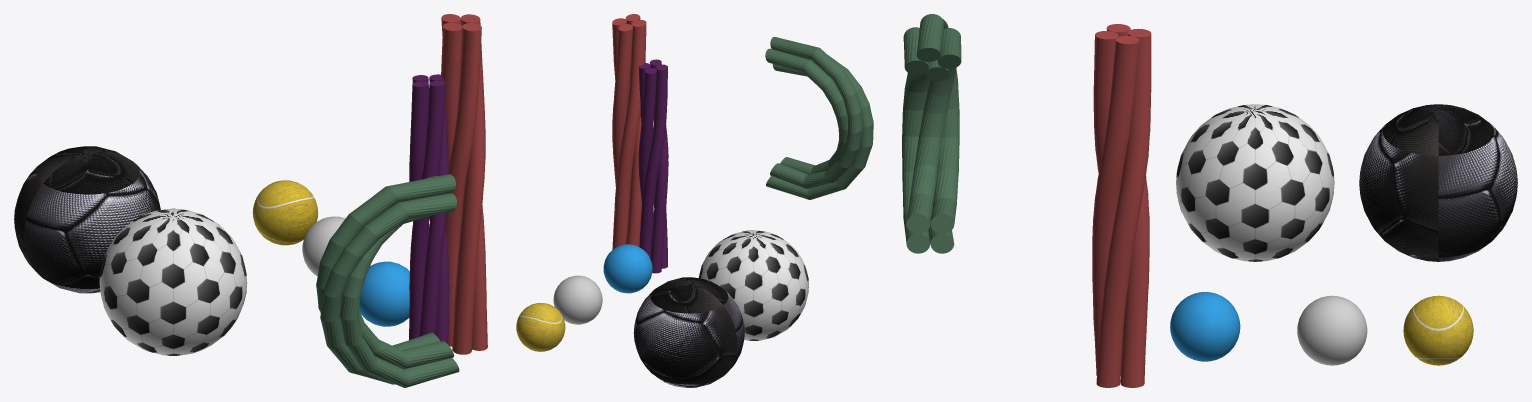
File: Dogo stuff.fbx
The picture shows the model from 3 angles, left to right: view 1: azimuth 30°, elevation 25°; view 2: azimuth 150°, elevation 25°; view 3: azimuth 270°, elevation 25°; orthographic projection. The views are drawn at different scales.
Visible parts, largest first — view 1: pPlatonic7, pCylinder11, pPlatonic6, pCylinder10, pCylinder5, pPlatonic4, pPlatonic3, pPlatonic2; view 2: pPlatonic6, pCylinder11, pPlatonic7, pCylinder10, pCylinder5, pPlatonic3, pPlatonic4, pPlatonic2; view 3: pCylinder10, pPlatonic6, pPlatonic7, pCylinder11, pPlatonic4, pPlatonic2, pPlatonic3.
Part boxes in pixels (x1,y1,x2,y2): pPlatonic7: (99, 208, 247, 355); pCylinder11: (316, 174, 459, 387); pPlatonic6: (14, 146, 160, 293); pCylinder10: (441, 14, 487, 354); pCylinder5: (409, 74, 449, 343); pPlatonic4: (252, 180, 318, 245); pPlatonic3: (359, 261, 409, 326); pPlatonic2: (302, 216, 345, 276); pPlatonic6: (633, 277, 744, 387); pCylinder11: (765, 37, 873, 199); pPlatonic7: (699, 230, 808, 340); pCylinder10: (612, 14, 646, 249); pCylinder5: (638, 59, 668, 273); pPlatonic3: (603, 244, 652, 293); pPlatonic4: (516, 303, 565, 351); pPlatonic2: (553, 275, 602, 324); pCylinder10: (1092, 24, 1151, 387); pPlatonic6: (1359, 104, 1517, 261); pPlatonic7: (1176, 104, 1334, 261); pCylinder11: (902, 14, 961, 253); pPlatonic4: (1403, 295, 1473, 365); pPlatonic2: (1297, 295, 1367, 365); pPlatonic3: (1170, 292, 1240, 361).
Bounding box in the file's own units: 10.94 × 10.85 × 17.53.
